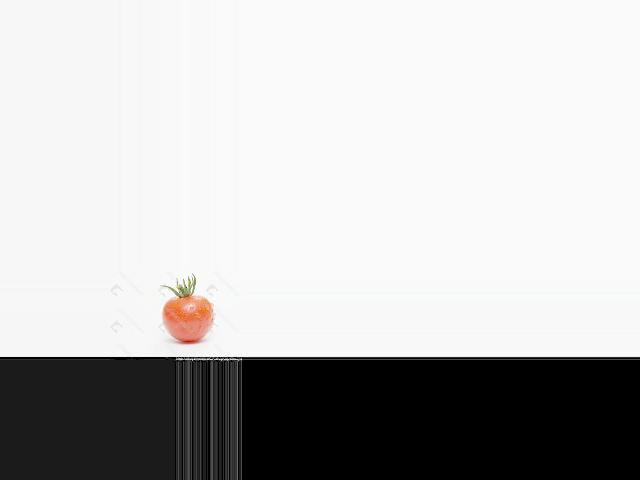tomato: (161, 296, 212, 342)
